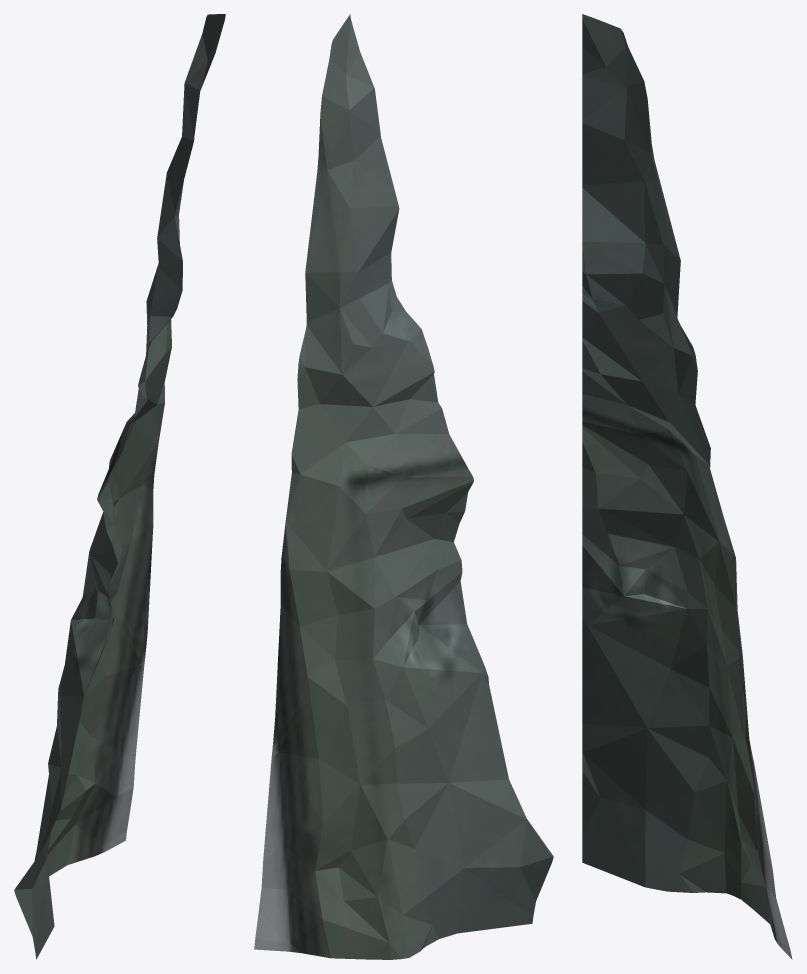
The picture shows the model from 3 angles, left to right: view 1: azimuth 30°, elevation 25°; view 2: azimuth 150°, elevation 25°; view 3: azimuth 270°, elevation 25°; orthographic projection. The views are drawn at different scales.
Bounding box in the file's own units: 0.1716 × 0.6969 × 0.1402.
1 material, 1 textured.
